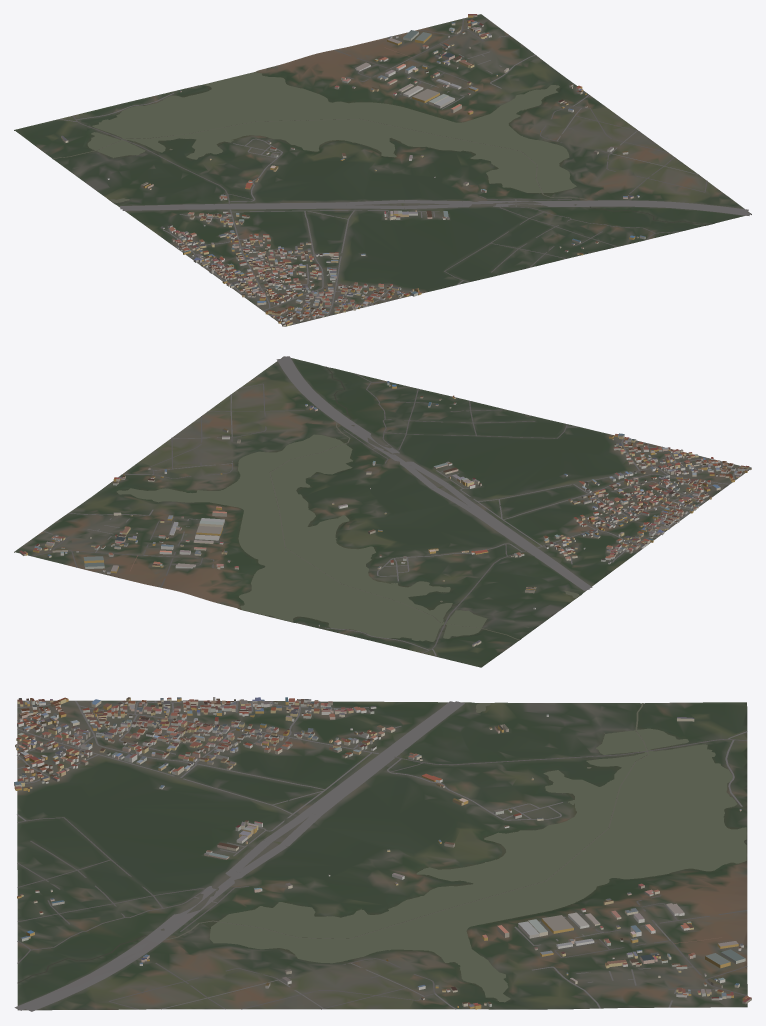
3 renders of one model, top to bottom at view 1: azimuth 30°, elevation 25°; view 2: azimuth 150°, elevation 25°; view 3: azimuth 270°, elevation 25°, orthographic. The views are drawn at different scales.
Parts seen in each view (by area): view 1: ground, water, buildings, roads; view 2: ground, water, buildings, roads; view 3: ground, water, buildings, roads.
Part boxes in pixels (x1=…): ground: x1=14, y1=14, x2=751, y2=326; water: x1=53, y1=72, x2=709, y2=224; buildings: x1=61, y1=14, x2=645, y2=326; roads: x1=59, y1=18, x2=750, y2=324; ground: x1=14, y1=356, x2=749, y2=667; water: x1=116, y1=366, x2=579, y2=641; buildings: x1=19, y1=381, x2=751, y2=646; roads: x1=31, y1=356, x2=740, y2=656; ground: x1=17, y1=700, x2=747, y2=1010; water: x1=17, y1=703, x2=746, y2=1002; buildings: x1=14, y1=697, x2=751, y2=1009; roads: x1=14, y1=700, x2=747, y2=1011.
Bounding box in the file's own units: 1410 × 20.75 × 1417.
